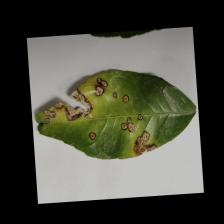canker: (35, 74, 159, 156)
